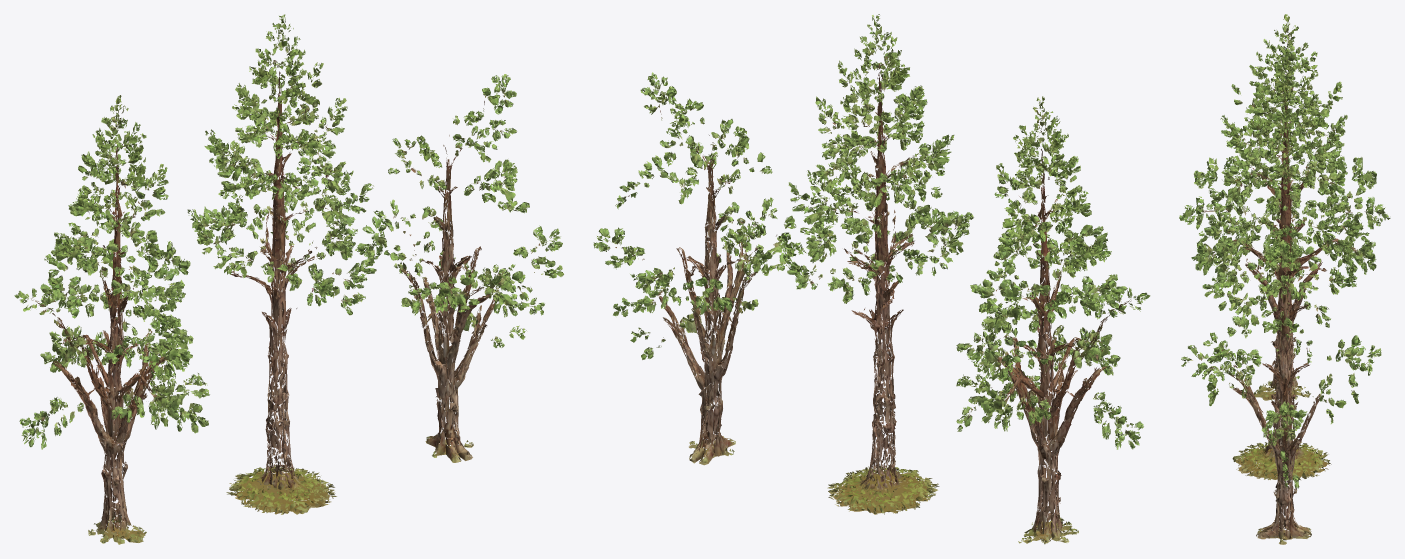
The model's file is tree.glb.
The picture shows the model from 3 angles, left to right: view 1: azimuth 30°, elevation 25°; view 2: azimuth 150°, elevation 25°; view 3: azimuth 270°, elevation 25°; orthographic projection. The views are drawn at different scales.
Visible parts, largest first — view 1: model; view 2: model; view 3: model.
Boxes of the visible parts, box(x1,y1,x2,y2) form: model: box(14, 14, 563, 544); model: box(593, 14, 1150, 544); model: box(1179, 14, 1390, 544).
Bounding box in the file's own units: 1.9 × 1.57 × 0.7242.
Materials: 1 (1 with a texture image).
